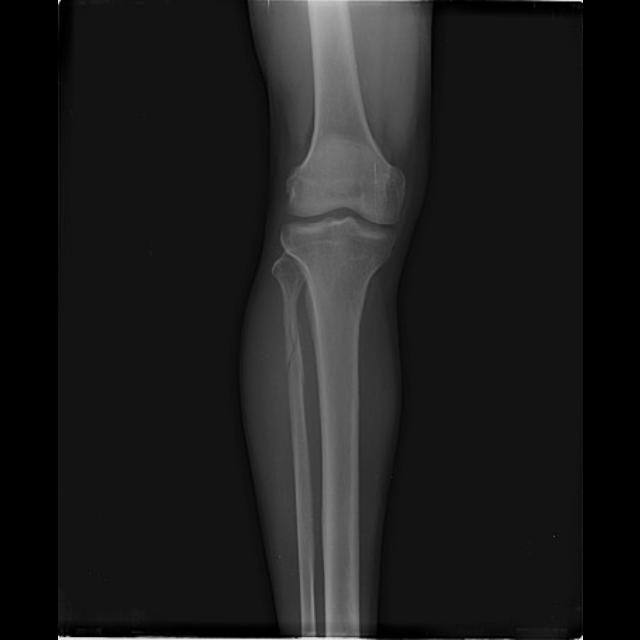Fracture: (281, 314, 300, 379)
